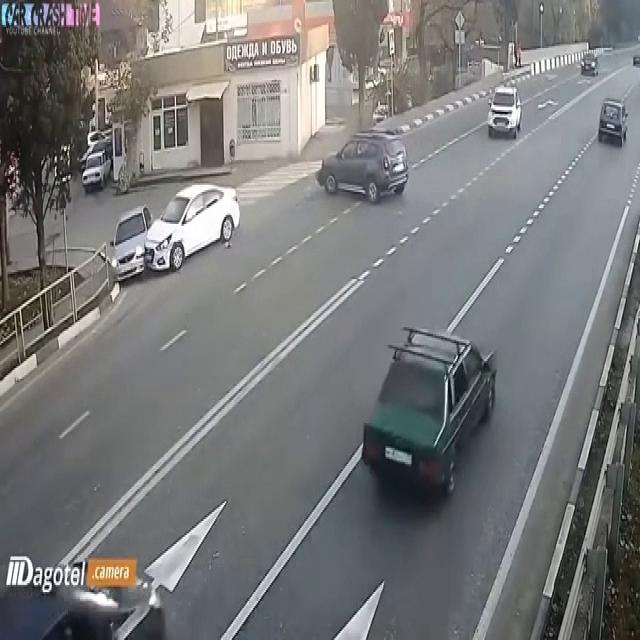accident: (96, 180, 239, 290)
